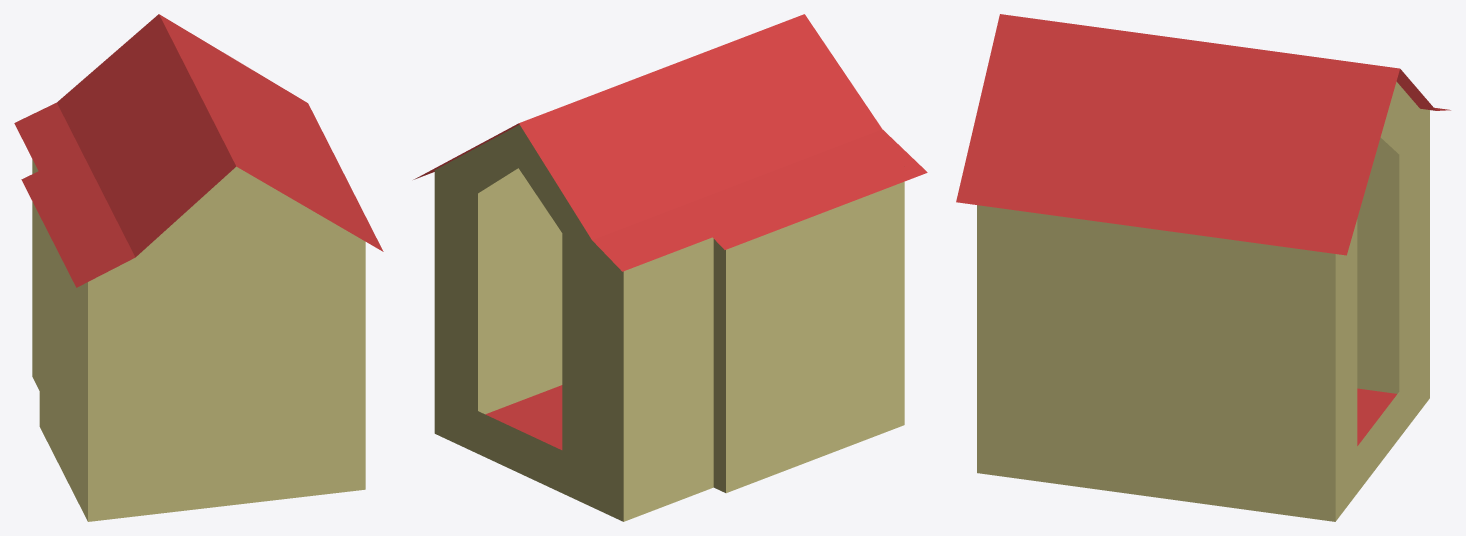
3 views of the same model, side by side, from view 1: azimuth 30°, elevation 25°; view 2: azimuth 150°, elevation 25°; view 3: azimuth 270°, elevation 25° (orthographic). The views are drawn at different scales.
Size of the model in its own units: 20.44 by 21.23 by 18.56.
